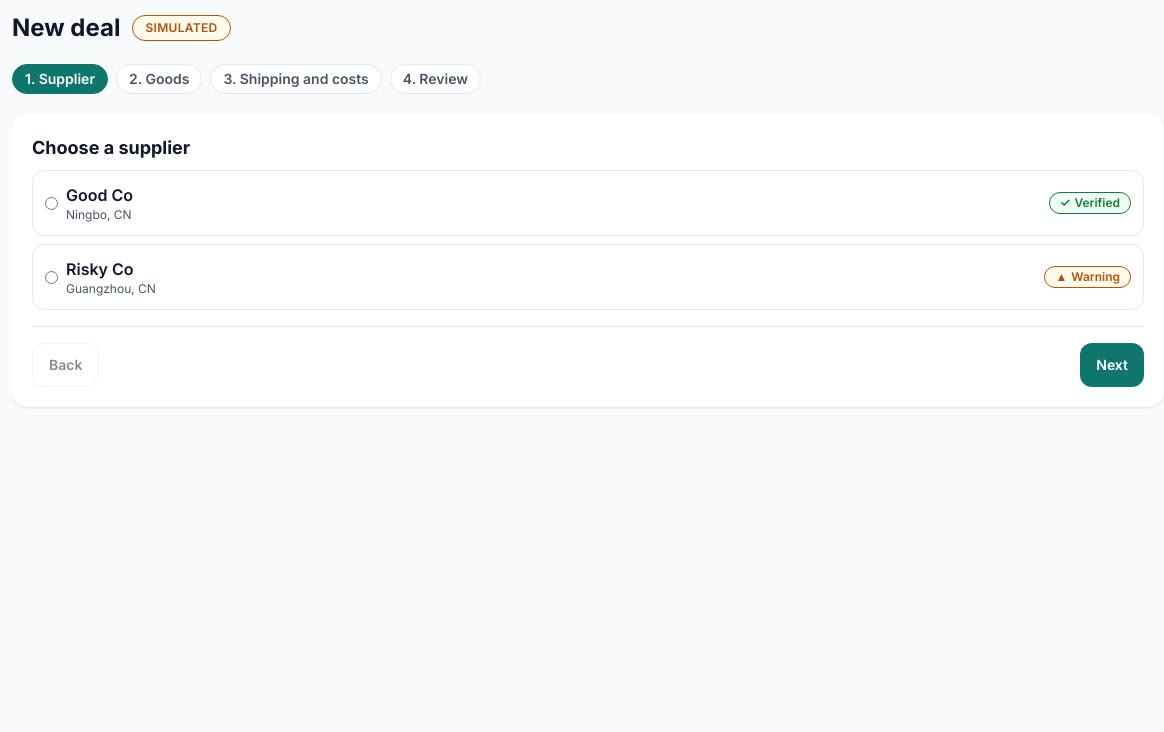
NewDealPage › shows an exact live total as quantity times unit price (no float drift)
Click the radio button labelled "Good Co Ningbo, CN ✓ Verified". click: (52, 203)
box: [45,196,58,210]
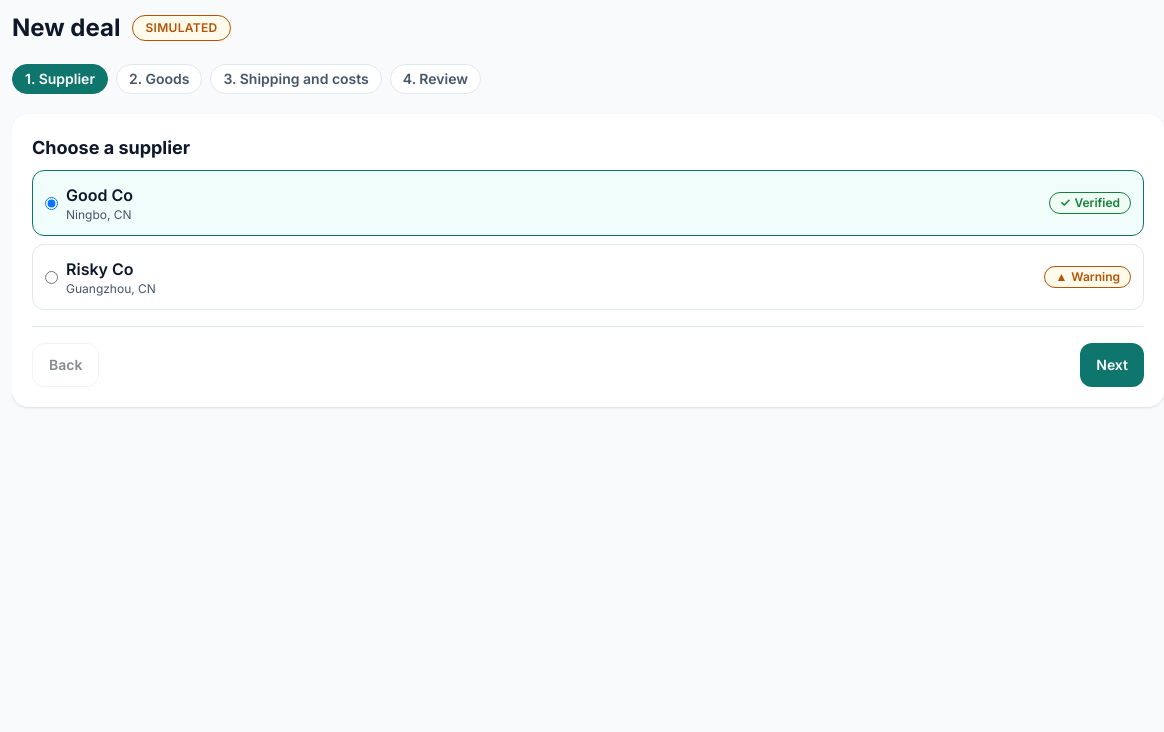
Click the button "Next". click: (1112, 365)
box: [1080,343,1144,387]
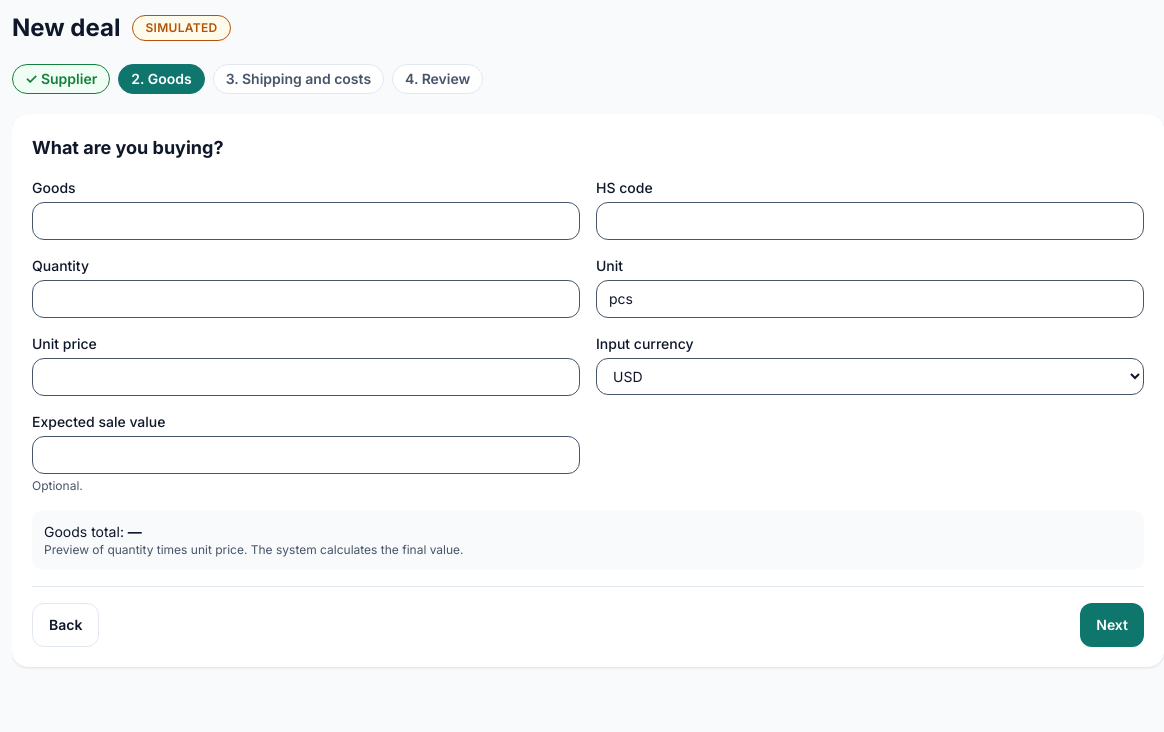
Now the element with test id "goods-total" shows "—", box [128,523,142,540]
Type "3" into the field labelled "Quantity". click: (306, 299)
box: [32,280,580,318]
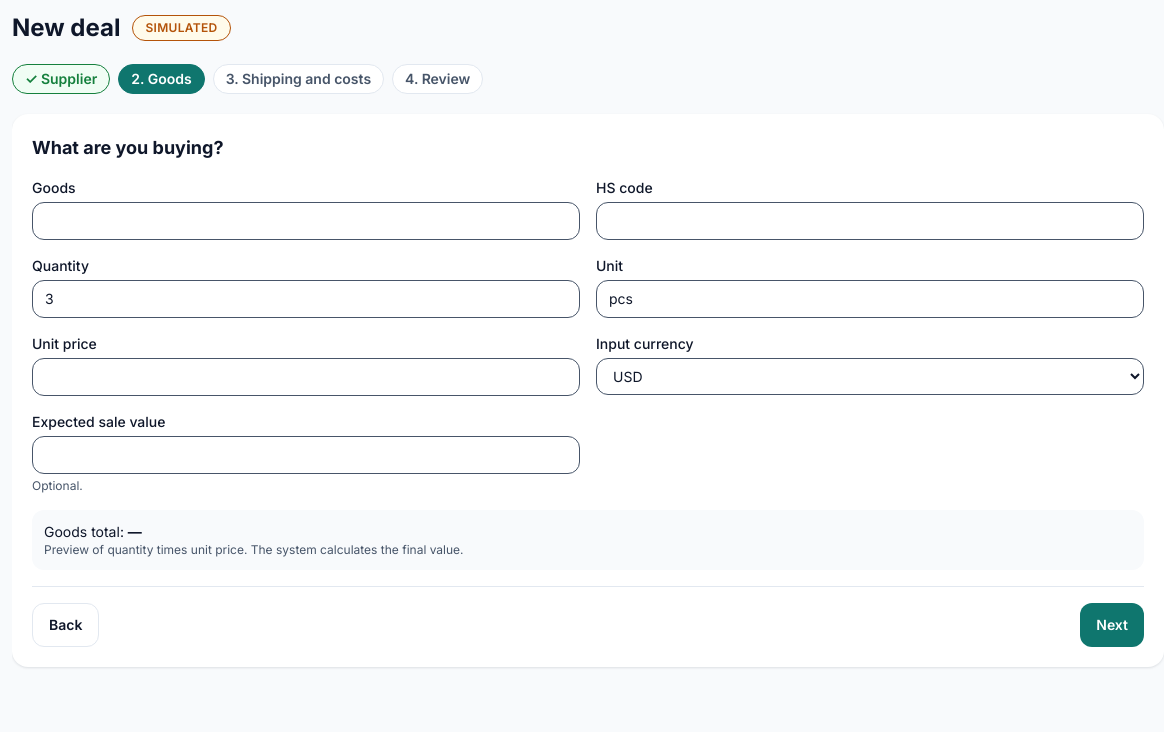
Type "0.1" into the field labelled "Unit price". click: (306, 377)
box: [32,358,580,396]
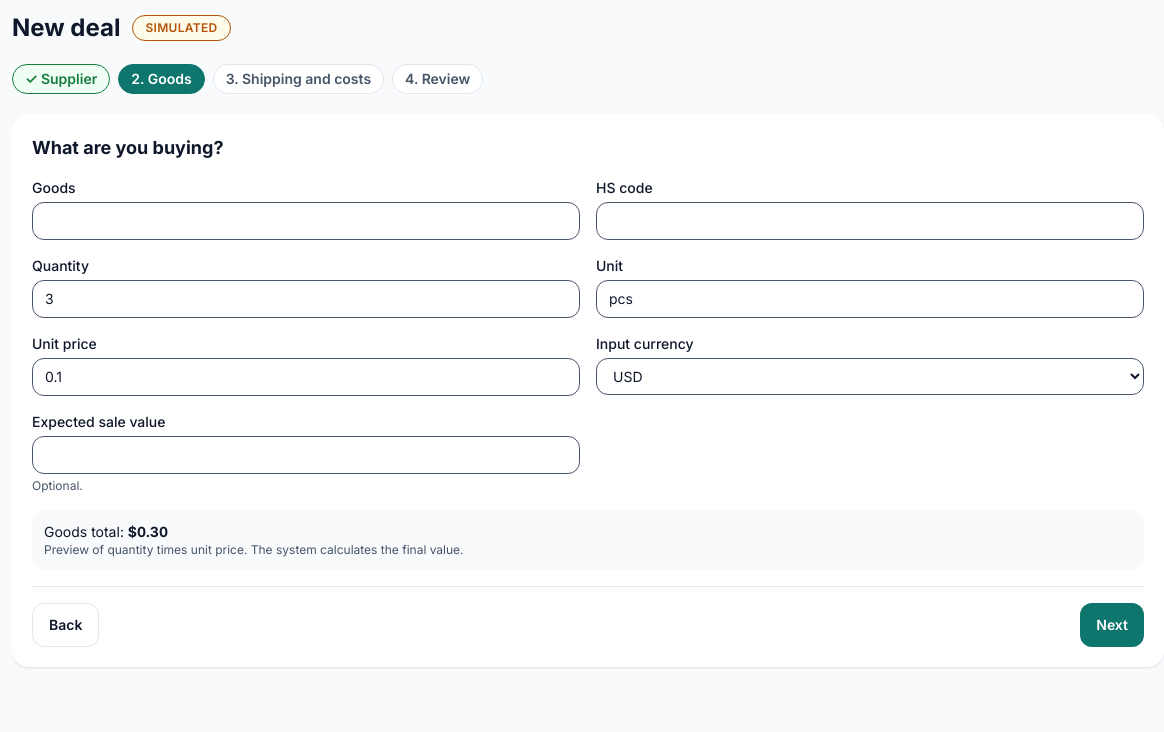
Now the element with test id "goods-total" shows "$0.30", box [128,523,168,540]
Replace the text in the field labelled "Quantity" with "8000". click: (306, 299)
box: [32,280,580,318]
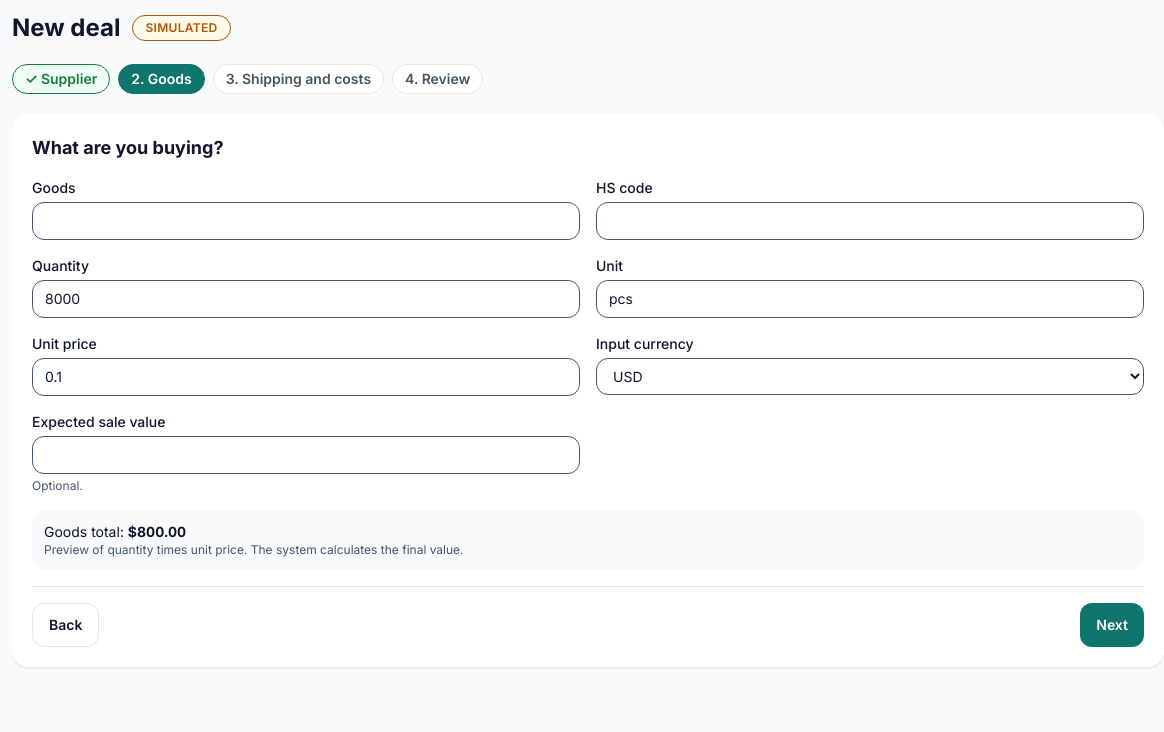
Replace the text in the field labelled "Unit price" with "1.20". click: (306, 377)
box: [32,358,580,396]
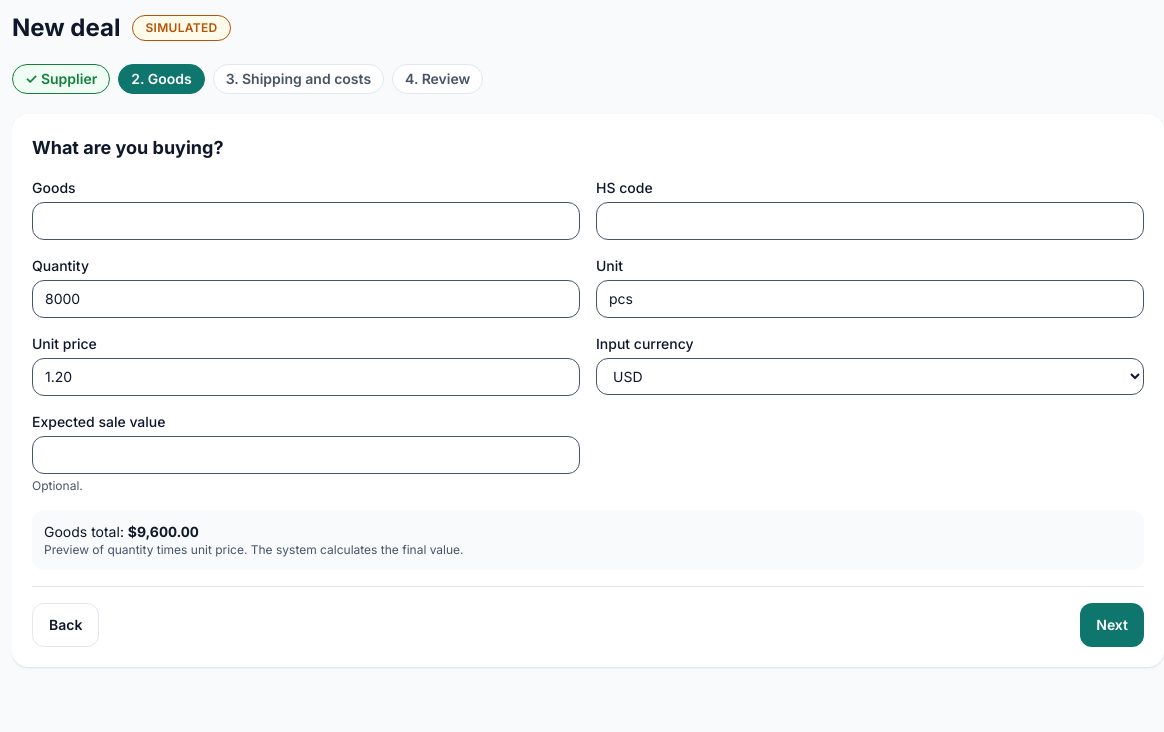
Now the element with test id "goods-total" shows "$9,600.00", box [128,523,199,540]
